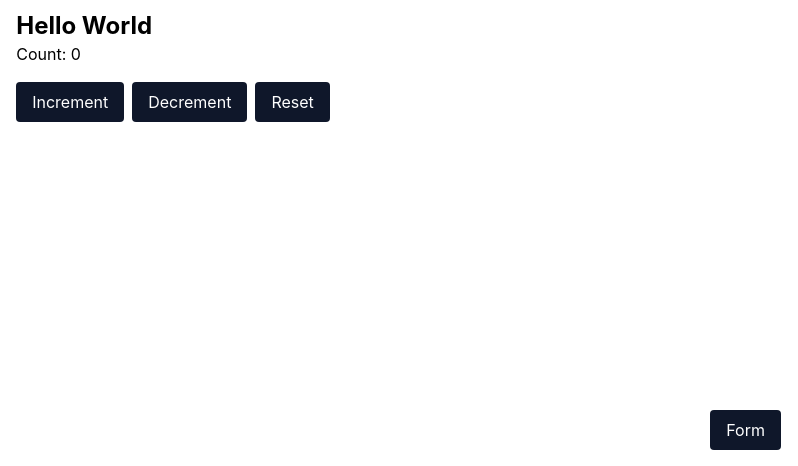
it: Counter Component › increments count flow
The width and height of the screenshot is (798, 466).
Expected: the heading "Count: 0" is shown, [16, 44, 81, 64]
Click the button with test id "increment-button": (70, 102) [16, 82, 124, 122]
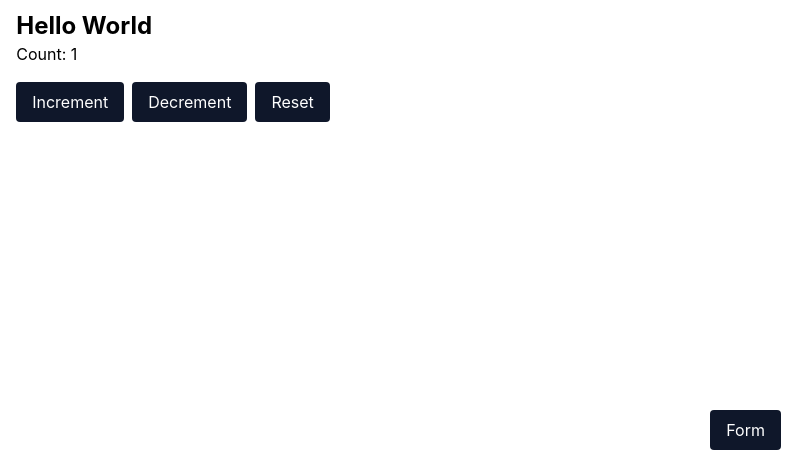
Result: the heading "Count: 1" is shown at [16, 44, 77, 64]
